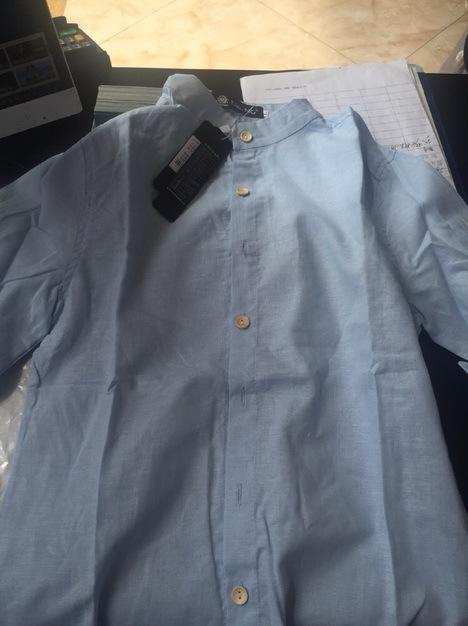S_shirt: (3, 73, 468, 625)
